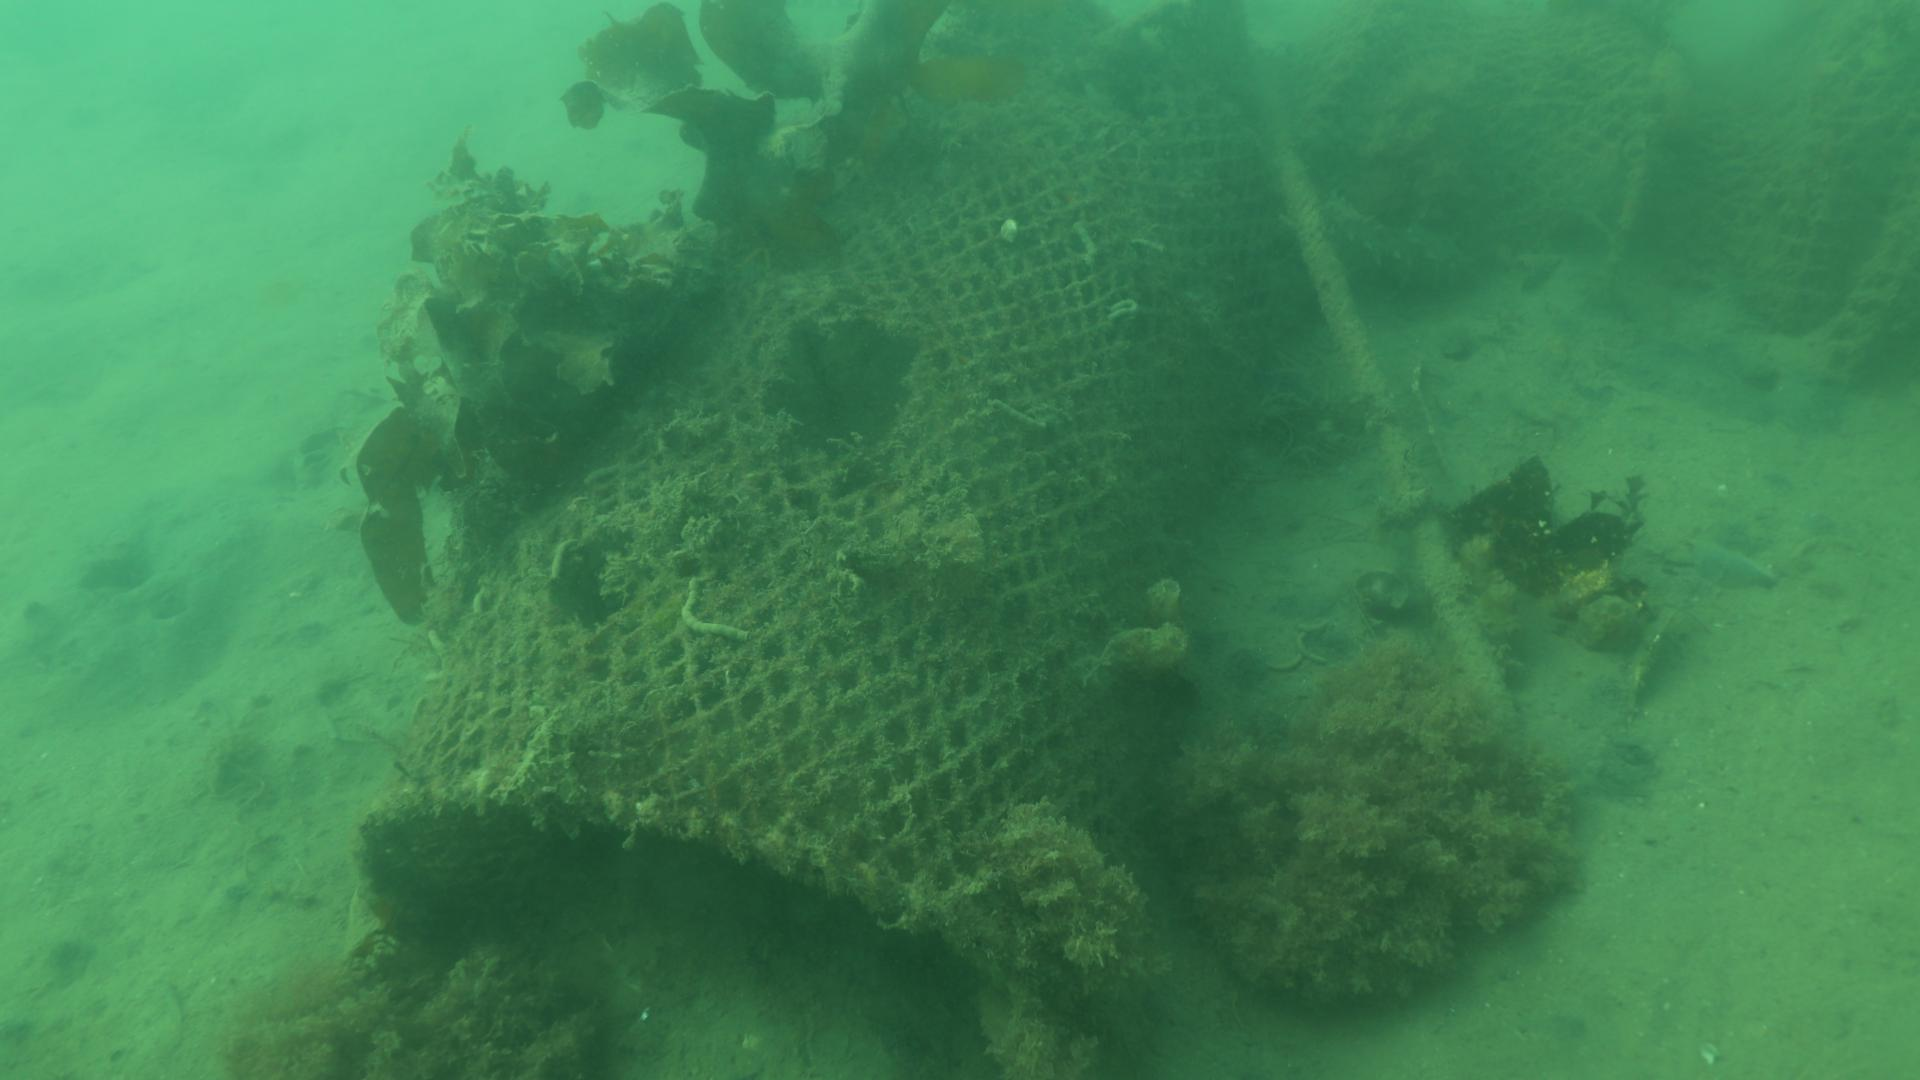spring fish trap: (349, 0, 1294, 1080)
